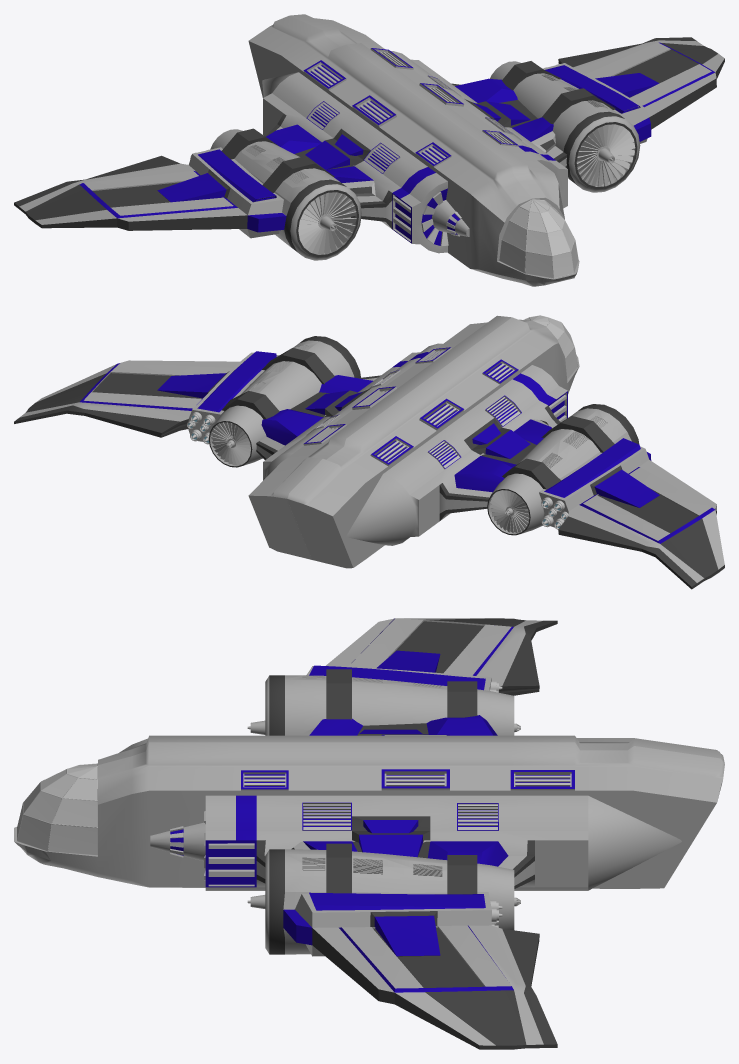
The model's file is spaceship.fbx.
3 renders of one model, top to bottom at view 1: azimuth 30°, elevation 25°; view 2: azimuth 150°, elevation 25°; view 3: azimuth 270°, elevation 25°, orthographic. The views are drawn at different scales.
Visible parts, largest first — view 1: engine (×2), spaceship, base (×2), front (×2), front_glass; view 2: engine (×2), spaceship, base (×2), door, back (×2), front_glass; view 3: engine (×2), spaceship, base (×2), front_glass.
Part boxes in pixels (x1,y1,x2,y2): engine (×2): (14, 37, 724, 260); spaceship: (248, 14, 579, 286); base (×2): (262, 51, 567, 253); front (×2): (298, 124, 635, 254); front_glass: (499, 199, 578, 278); engine (×2): (14, 336, 724, 589); spaceship: (249, 315, 579, 567); base (×2): (256, 343, 567, 545); door: (248, 495, 353, 568); back (×2): (211, 422, 529, 533); front_glass: (524, 315, 578, 379); engine (×2): (247, 618, 557, 1049); spaceship: (14, 734, 724, 888); base (×2): (150, 715, 681, 890); front_glass: (17, 763, 97, 855).
Bounding box in the file's own units: 41.62 × 5.65 × 29.25.
